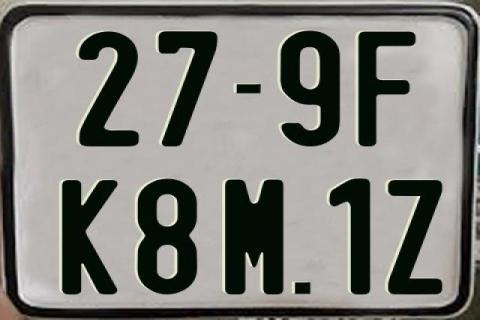0: (279, 29, 343, 149), (136, 178, 200, 296), (158, 29, 223, 145), (77, 31, 139, 146), (326, 178, 368, 298)
F: (358, 31, 418, 148)
K: (60, 180, 118, 294)
M: (224, 180, 286, 296)
Z: (387, 178, 441, 292)
